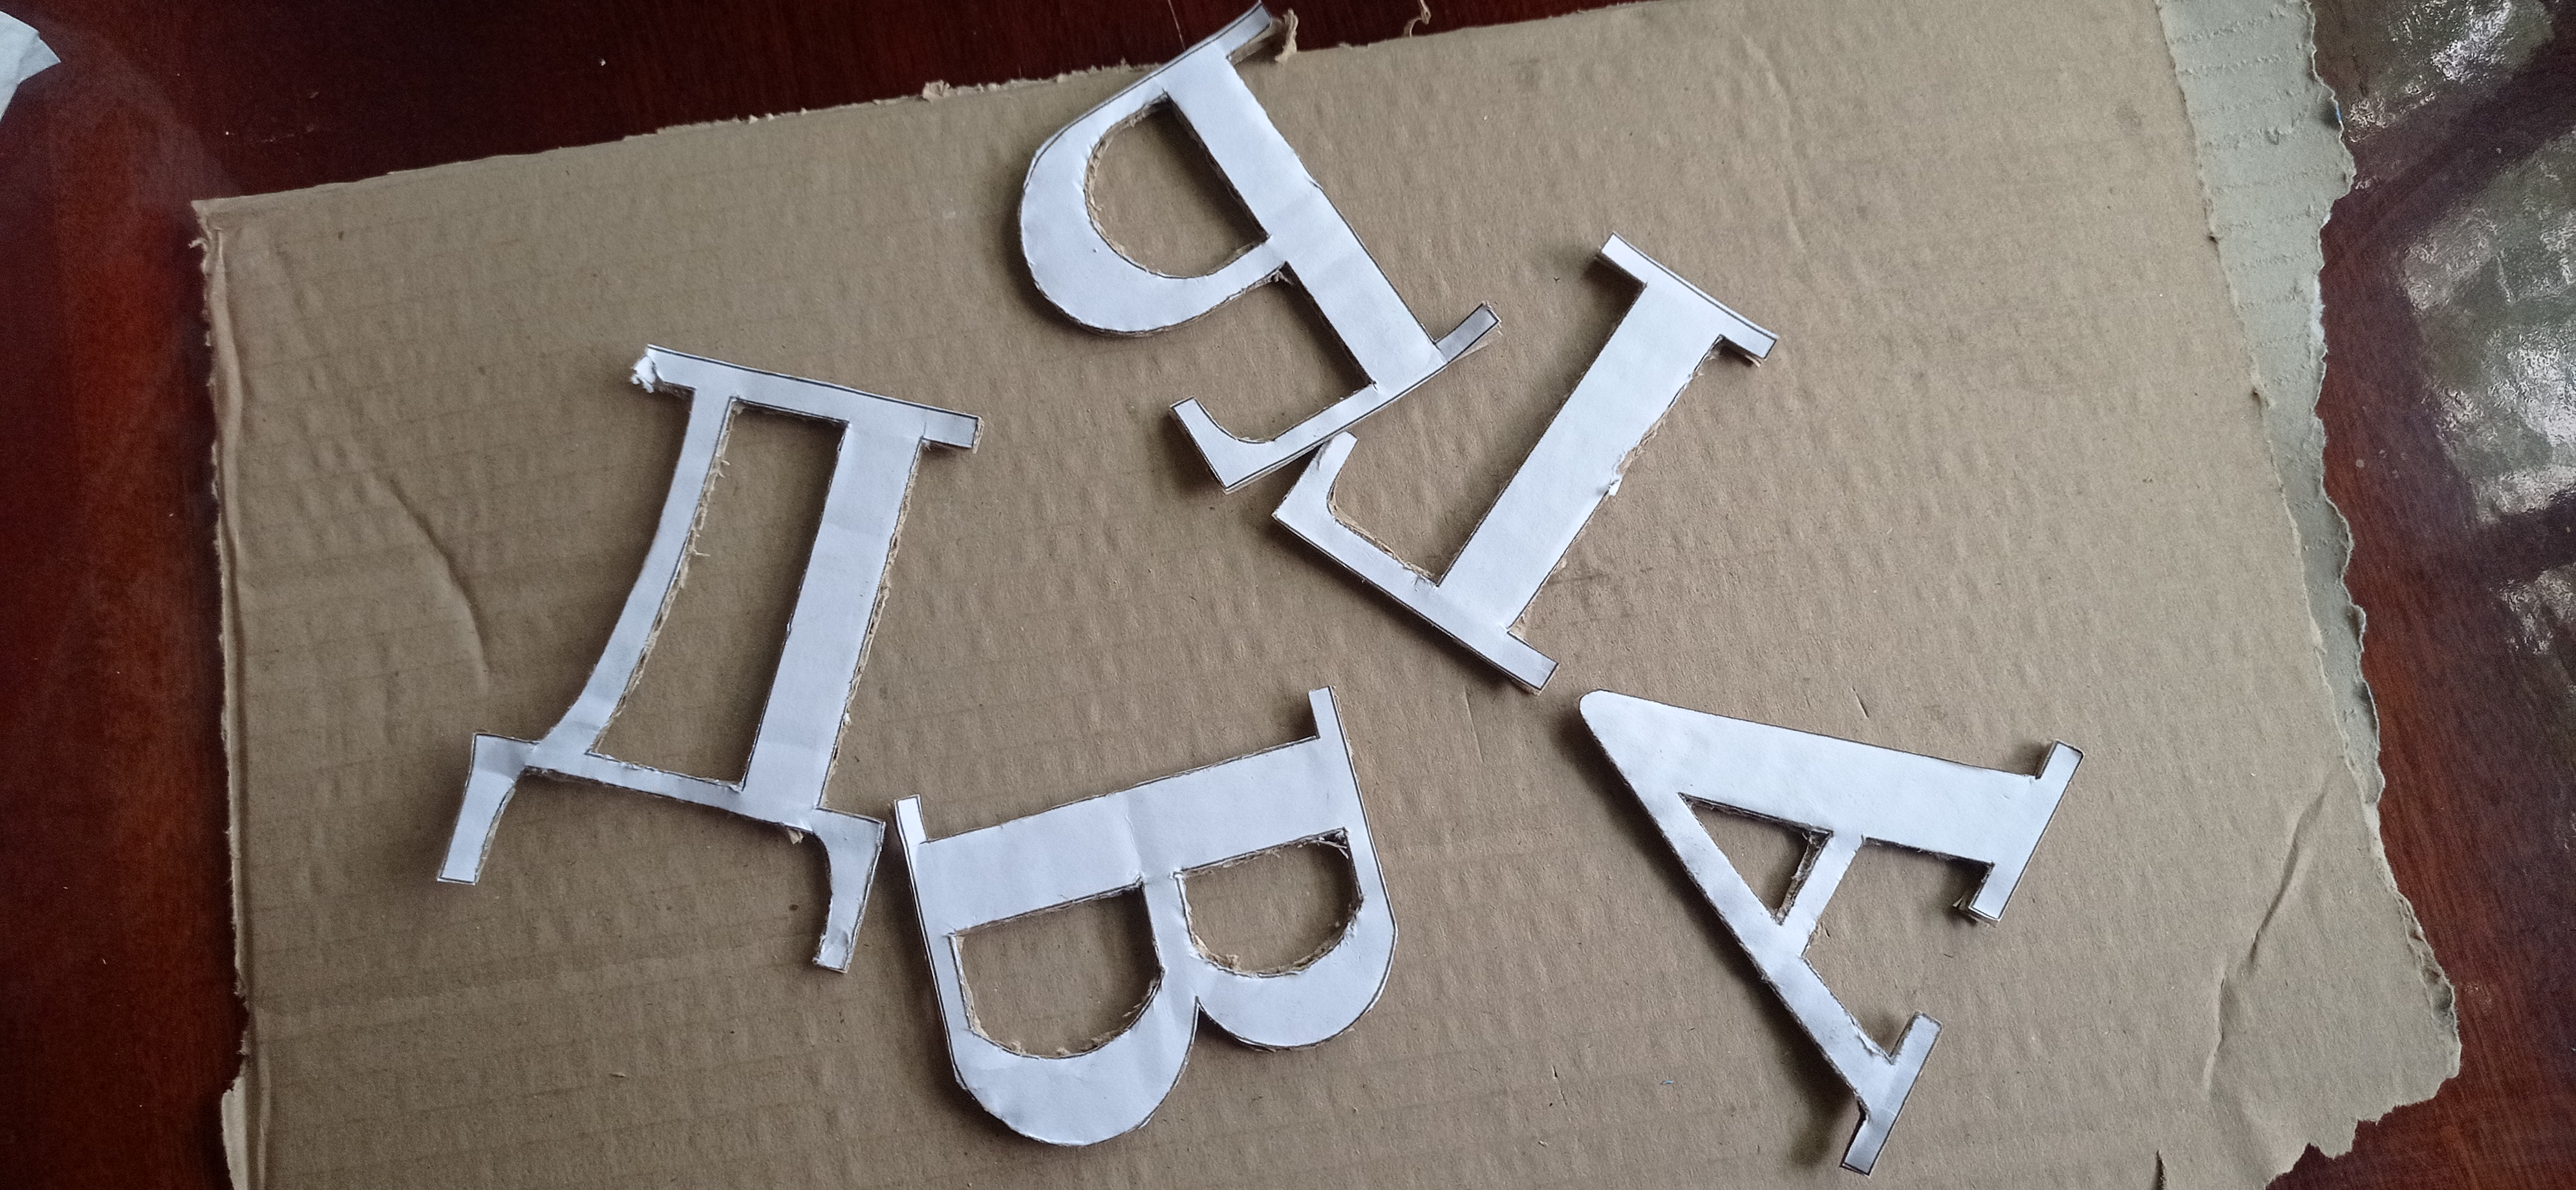a: (1572, 685, 2088, 1177)
b: (1012, 8, 1508, 498)
d: (437, 340, 987, 976)
g: (1270, 228, 1782, 695)
v: (890, 679, 1396, 1155)
